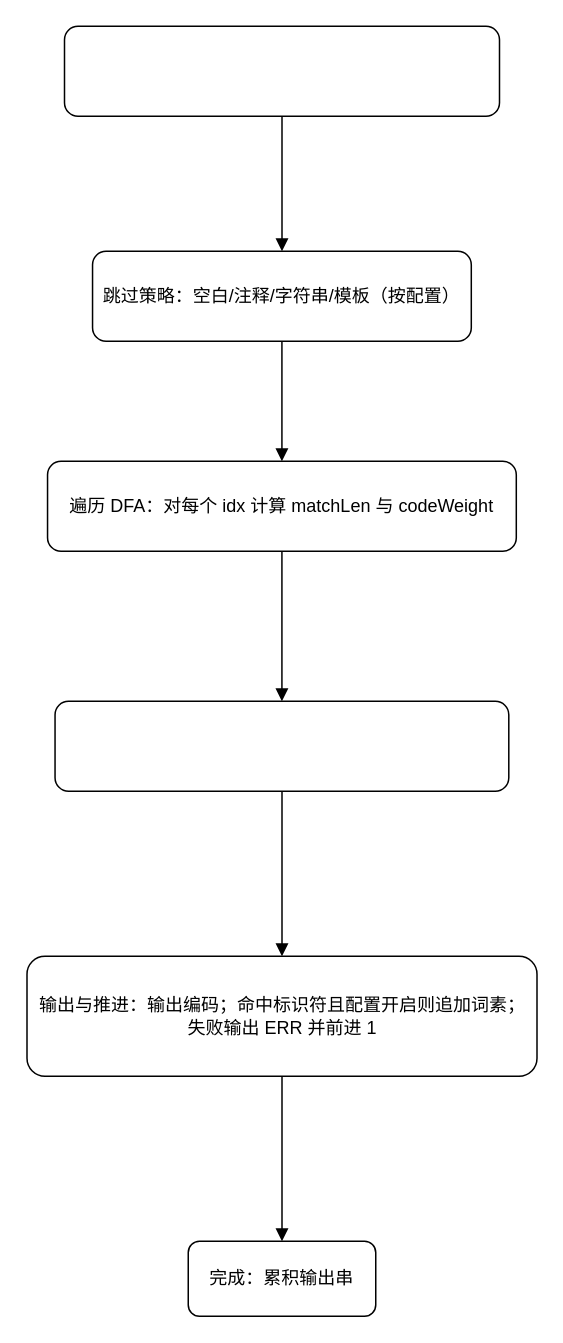
This 563x1343 diagram has some shape labels left out. The centre of each missing label's shape, as x and y in pixels:
开始：输入源文本与 mdfas/codes/identifierCodes: (x=281, y=70)
选择规则：长度优先；等长权重优先；再按索引: (x=281, y=745)
